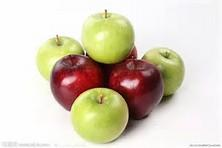apple: (83, 88, 129, 142), (141, 40, 186, 94), (30, 33, 78, 83), (84, 16, 131, 56)
